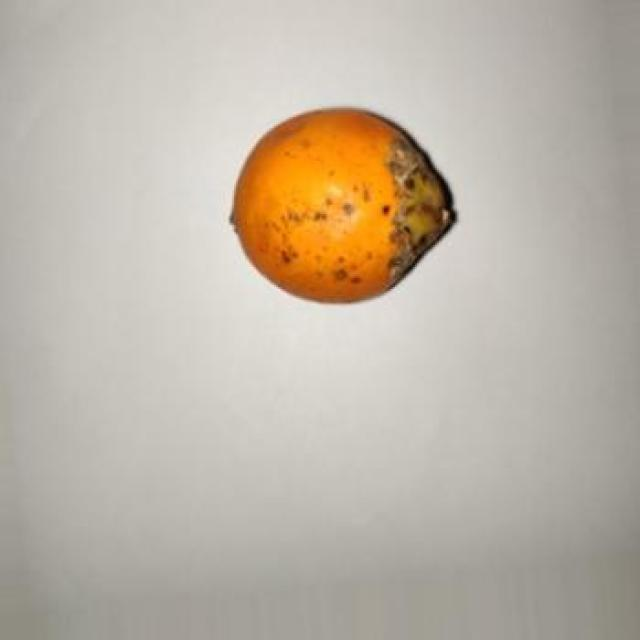good: (229, 108, 459, 307)
